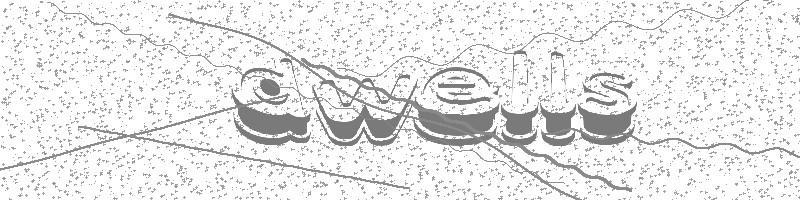d: (224, 53, 313, 143)
e: (412, 67, 504, 145)
l: (496, 51, 538, 143), (542, 48, 578, 141)
s: (577, 69, 638, 142)
w: (307, 74, 417, 145)
